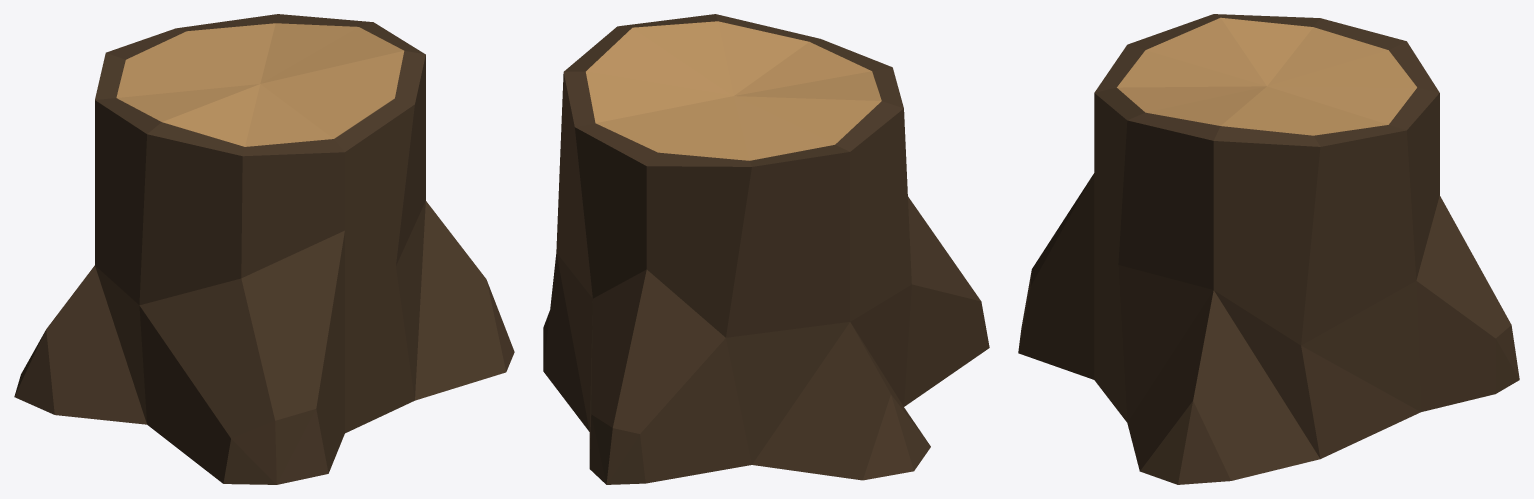
File: stump1.fbx
3 renders of one model, left to right at view 1: azimuth 30°, elevation 25°; view 2: azimuth 150°, elevation 25°; view 3: azimuth 270°, elevation 25°, orthographic. The views are drawn at different scales.
Visible parts, largest first — view 1: Stump.01; view 2: Stump.01; view 3: Stump.01.
Boxes of the visible parts, left/top/right/bottom form: Stump.01: left=14, top=14, right=514, bottom=484; Stump.01: left=543, top=14, right=989, bottom=484; Stump.01: left=1018, top=14, right=1519, bottom=484.
Size of the model in its own units: 52.13 by 36.4 by 52.64.
